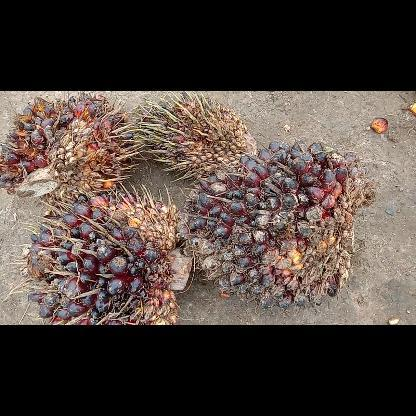Kurang masak: (186, 140, 370, 310), (26, 194, 188, 324)
TBS abnormal: (140, 90, 258, 180)
TBS masak: (2, 91, 134, 195)
